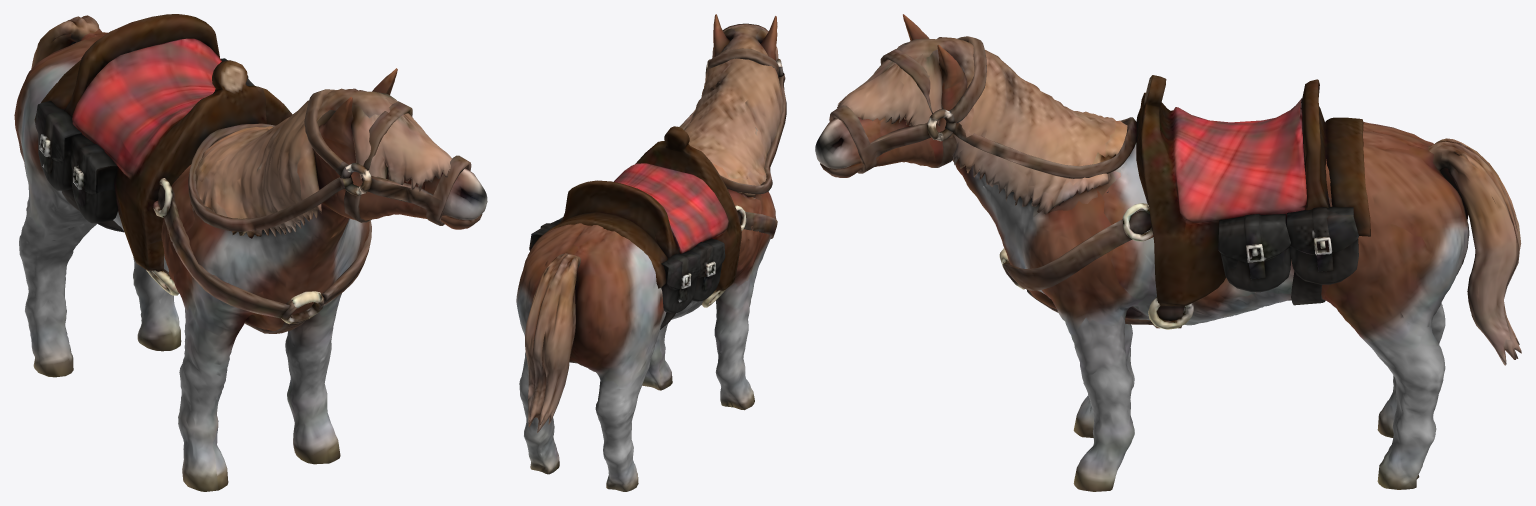
Rendered from MZ4250 - Pony Mount.glb.
The picture shows the model from 3 angles, left to right: view 1: azimuth 30°, elevation 25°; view 2: azimuth 150°, elevation 25°; view 3: azimuth 270°, elevation 25°; orthographic projection. The views are drawn at different scales.
Parts seen in each view (by area): view 1: SR Pony; view 2: SR Pony; view 3: SR Pony.
Part boxes in pixels (x1,y1,x2,y2): SR Pony: (14, 14, 487, 491); SR Pony: (516, 14, 786, 491); SR Pony: (815, 14, 1521, 491).
Bounding box in the file's own units: 31.86 × 66.18 × 96.55.
Materials: 2 (2 with a texture image).
